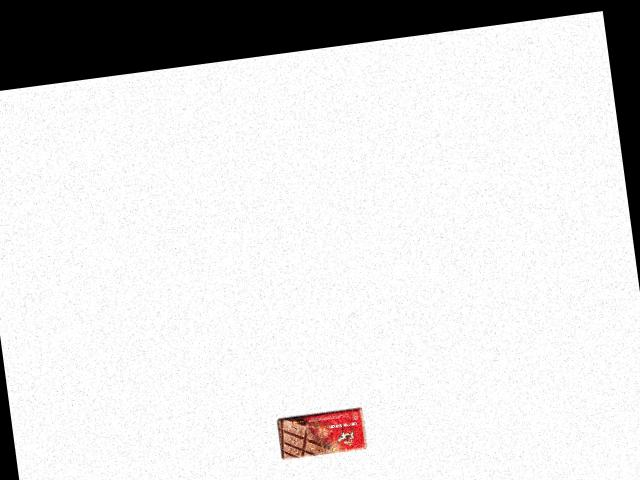chocolate: (274, 405, 368, 462)
